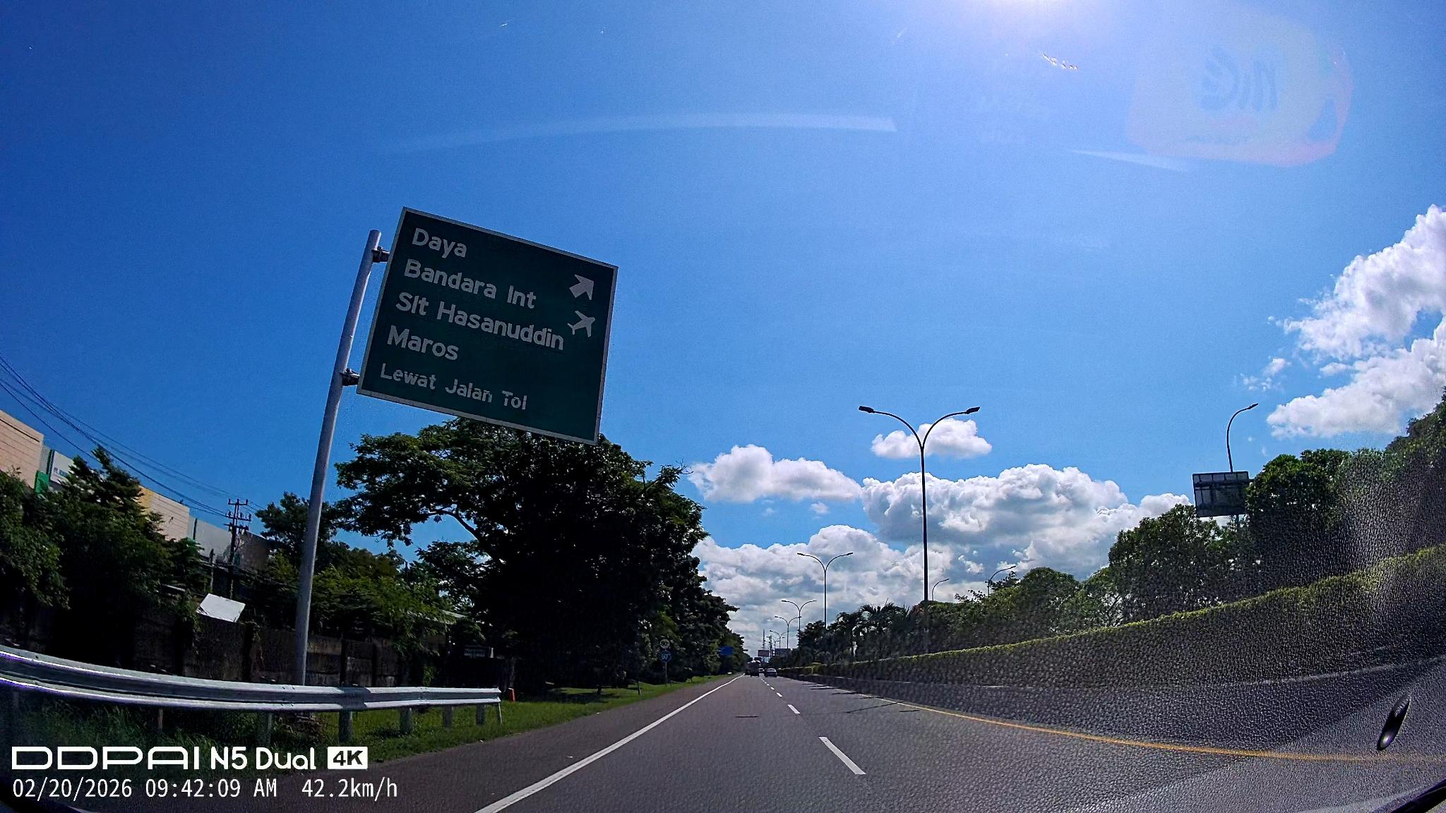rambu_teks: (371, 206, 612, 425)
